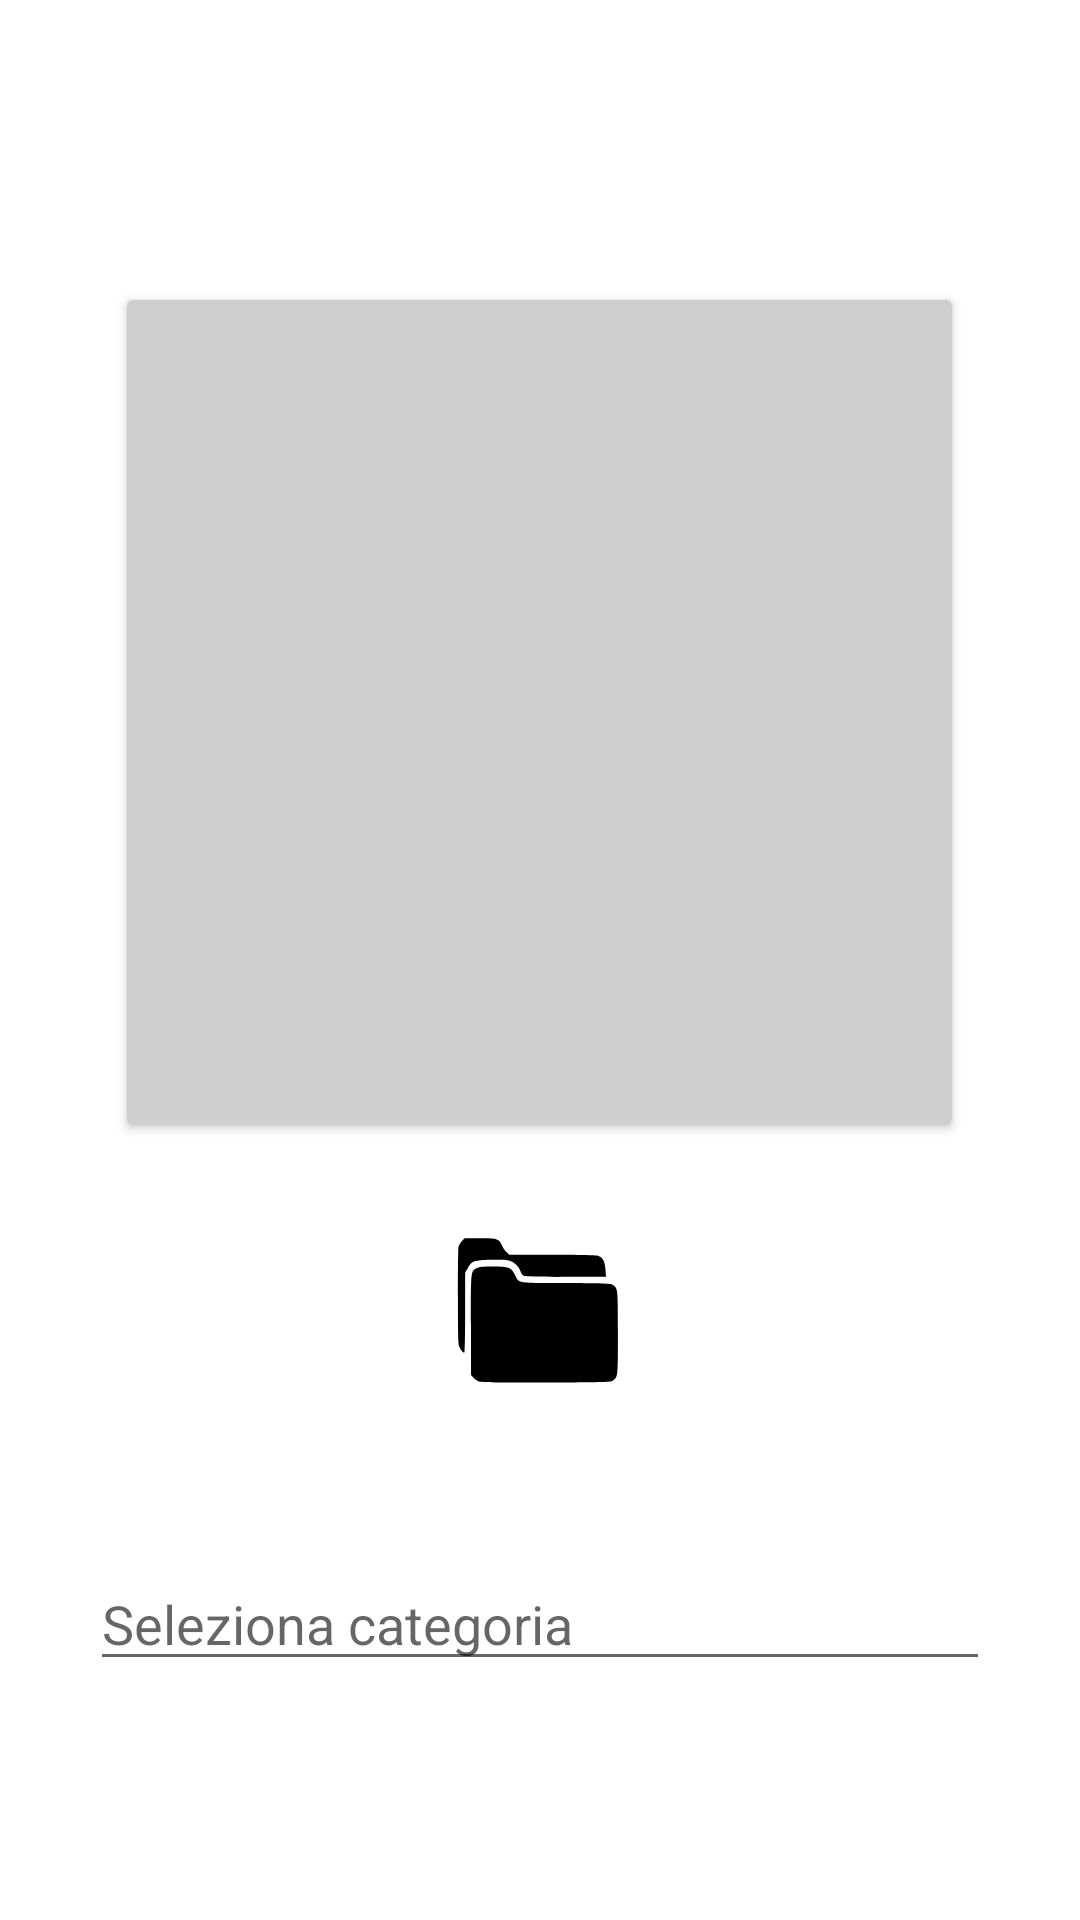

Screen size 1080 × 1920. Icon name, then its center in pixels as (x=x, y=y):
file explorer: (x=537, y=1310)
